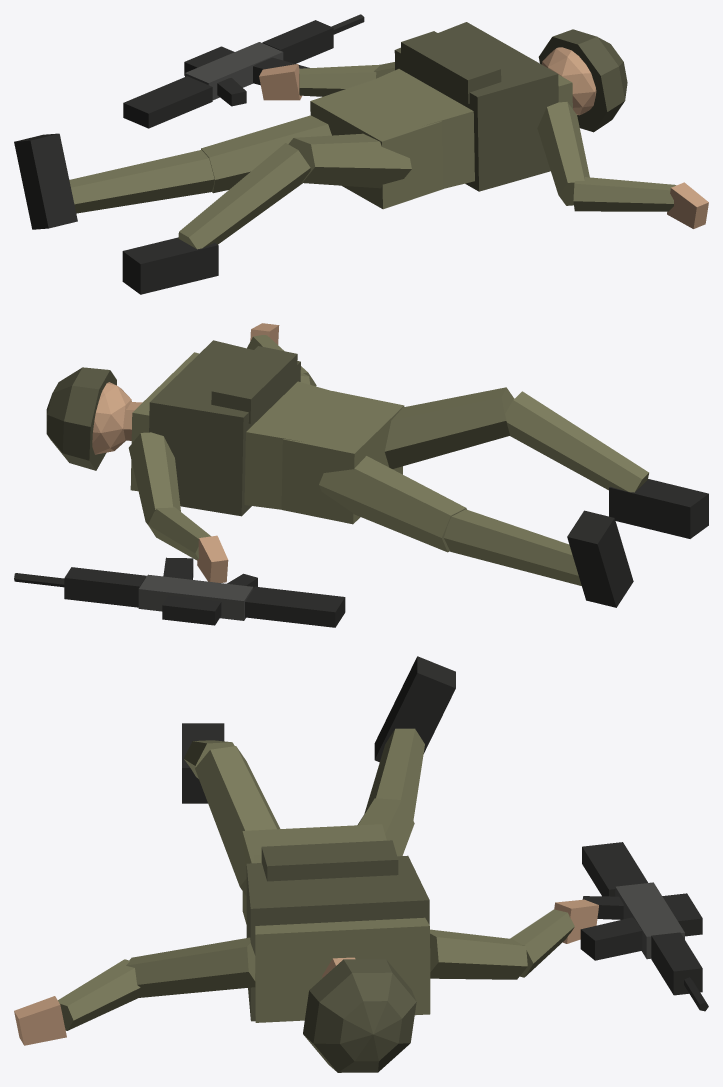
File: soldier_dead.glb
The picture shows the model from 3 angles, top to bottom: view 1: azimuth 30°, elevation 25°; view 2: azimuth 150°, elevation 25°; view 3: azimuth 270°, elevation 25°; orthographic projection. The views are drawn at different scales.
Visible parts, largest first — view 1: soldier; view 2: soldier; view 3: soldier.
Part boxes in pixels (box(x1,y1,x2,y2)): soldier: box(14, 14, 708, 294); soldier: box(14, 323, 708, 627); soldier: box(14, 656, 708, 1072).
Size of the model in its own units: 1.74 by 0.3379 by 1.58.
